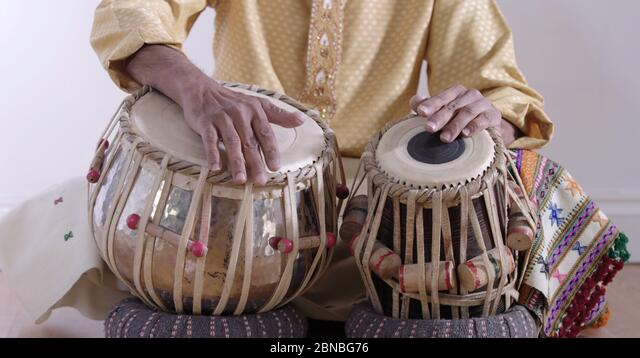tabla: (88, 81, 341, 314), (362, 113, 533, 310)
